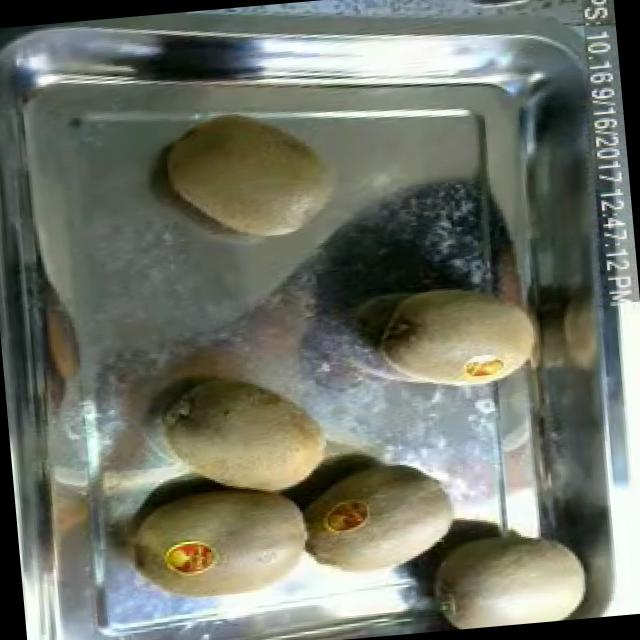Fruit: (120, 456, 330, 620), (152, 99, 338, 254), (360, 257, 546, 408), (297, 445, 467, 592), (412, 507, 602, 632)
